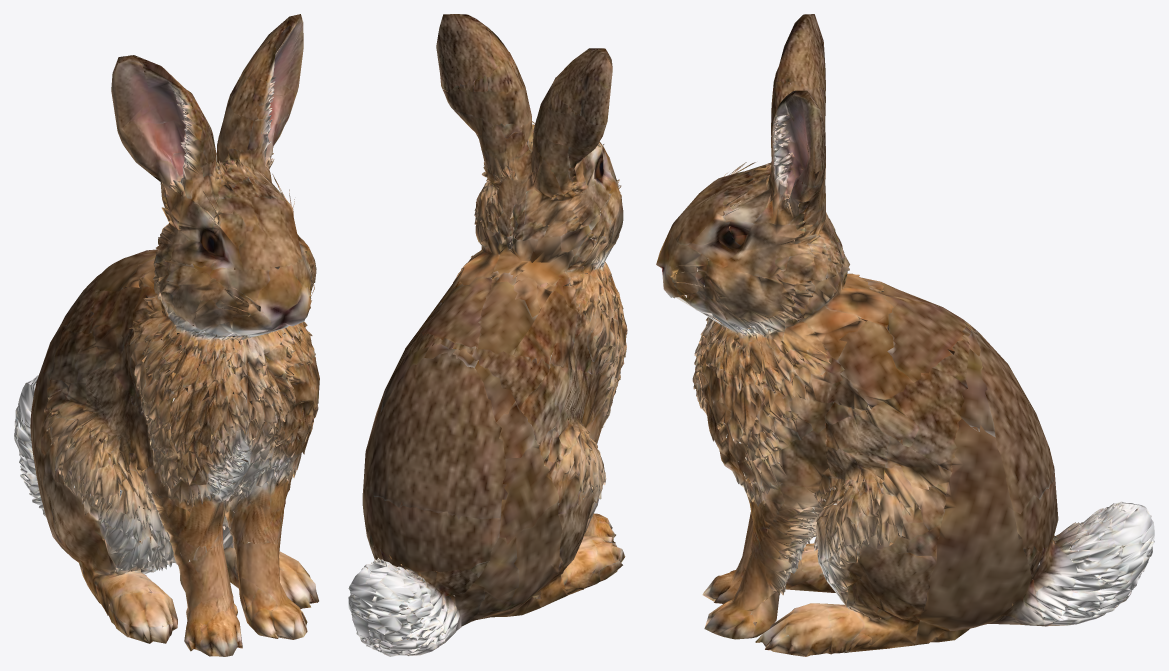
The model's file is rabbit.glb.
3 views of the same model, side by side, from view 1: azimuth 30°, elevation 25°; view 2: azimuth 150°, elevation 25°; view 3: azimuth 270°, elevation 25° (orthographic). The views are drawn at different scales.
Parts seen in each view (by area): view 1: rabbit; view 2: rabbit; view 3: rabbit.
Boxes of the visible parts, box(x1,y1,x2,y2) form: rabbit: box(14, 14, 319, 656); rabbit: box(348, 14, 627, 656); rabbit: box(656, 14, 1154, 656).
Size of the model in its own units: 0.1794 by 0.4493 by 0.3628.
1 material, 1 textured.
